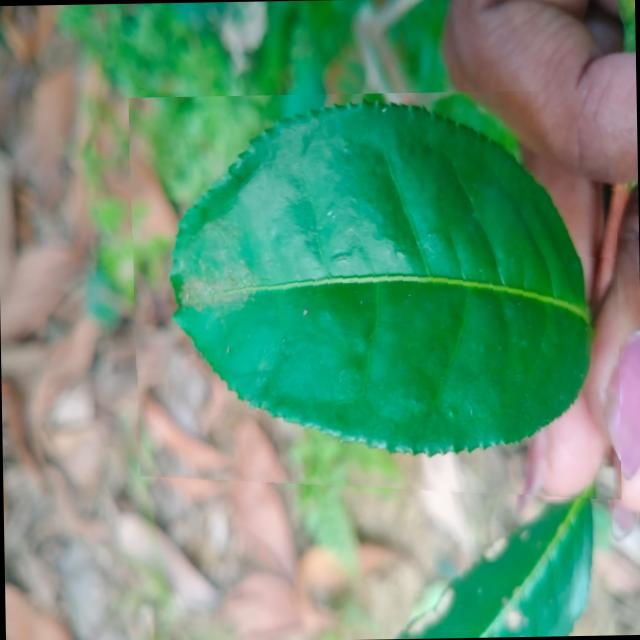Category D 7+ days, Not for Tea: (127, 89, 621, 508)
